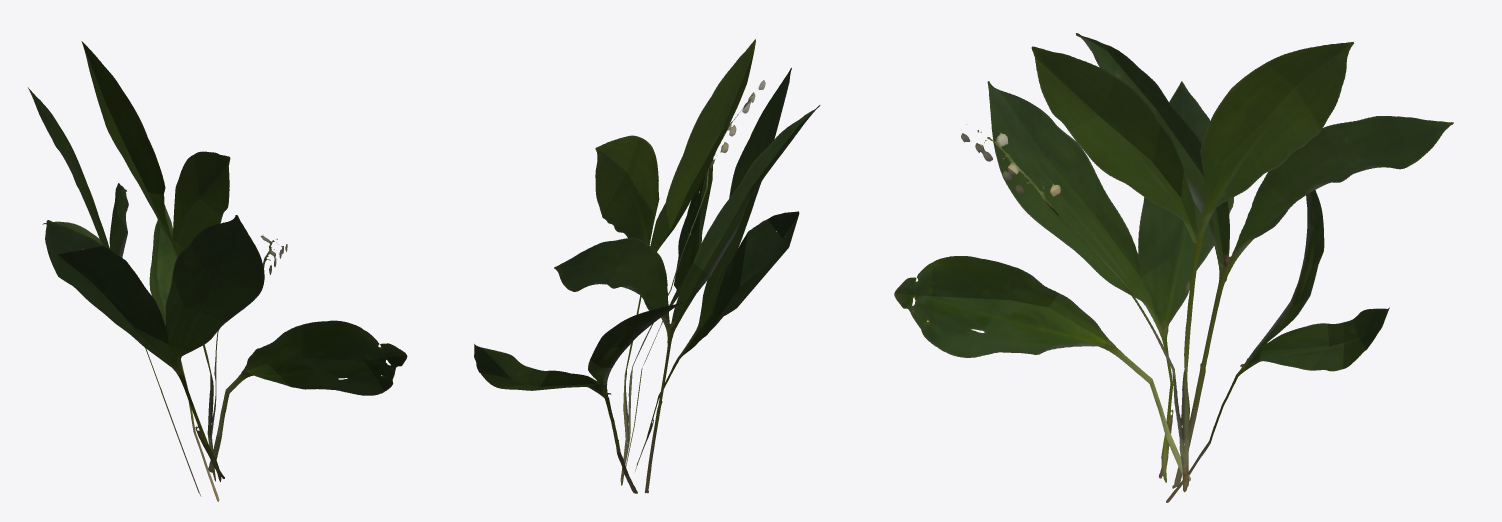
File: pm_lily.fbx
The picture shows the model from 3 angles, left to right: view 1: azimuth 30°, elevation 25°; view 2: azimuth 150°, elevation 25°; view 3: azimuth 270°, elevation 25°; orthographic projection. The views are drawn at different scales.
Parts seen in each view (by area): view 1: Lily; view 2: Lily; view 3: Lily.
Part boxes in pixels (x1,y1,x2,y2): Lily: [28, 41, 407, 501]; Lily: [474, 39, 820, 493]; Lily: [894, 33, 1453, 502].
Size of the model in its own units: 69.82 by 115 by 138.
Materials: 1 (1 with a texture image).
